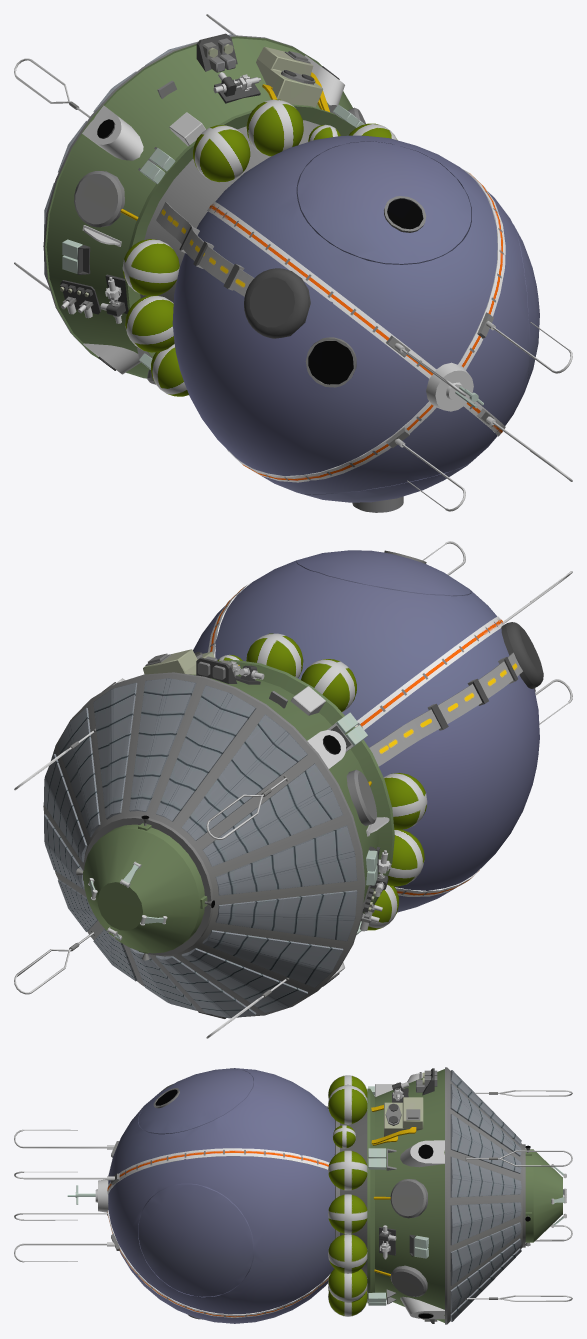
The model's file is vostok.glb.
The picture shows the model from 3 angles, top to bottom: view 1: azimuth 30°, elevation 25°; view 2: azimuth 150°, elevation 25°; view 3: azimuth 270°, elevation 25°; orthographic projection. The views are drawn at different scales.
Visible parts, largest first — view 1: Vostok-1_vostok1_color_0; view 2: Vostok-1_vostok1_color_0; view 3: Vostok-1_vostok1_color_0.
Part boxes in pixels (box(x1,y1,x2,y2)): Vostok-1_vostok1_color_0: box(14, 14, 572, 512); Vostok-1_vostok1_color_0: box(14, 541, 572, 1038); Vostok-1_vostok1_color_0: box(14, 1067, 572, 1324).
Bounding box in the file's own units: 1.09 × 1.15 × 2.36.
1 material, 1 textured.
